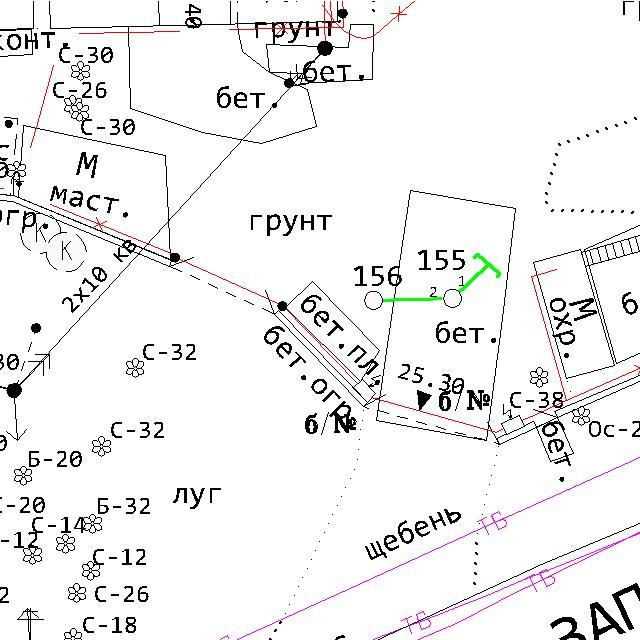bushes: (18, 211, 62, 255), (44, 231, 89, 274), (69, 59, 92, 82), (66, 581, 88, 605), (91, 435, 113, 458), (54, 532, 76, 555), (124, 357, 146, 379), (529, 366, 550, 389), (82, 512, 103, 535), (80, 559, 101, 582), (69, 101, 90, 123), (6, 160, 27, 182), (13, 465, 34, 487), (22, 544, 43, 566), (63, 93, 82, 116), (572, 404, 591, 427)
mark: (416, 388, 434, 412)
well: (441, 284, 464, 310), (362, 288, 386, 312)
